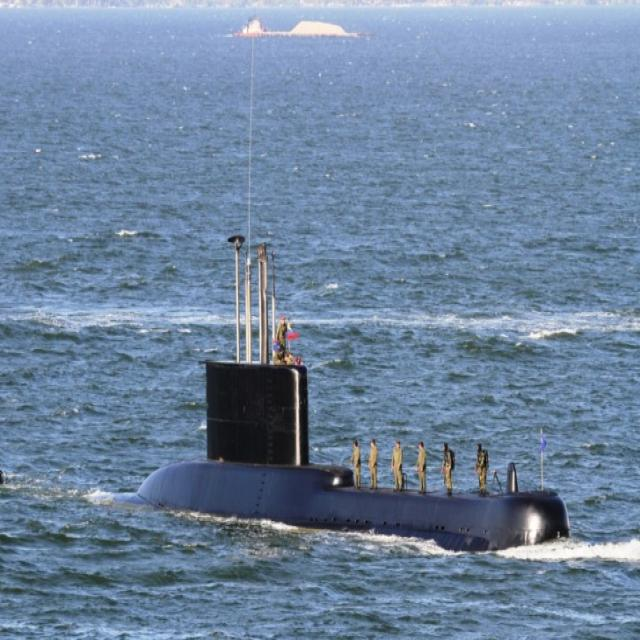submarine: (96, 218, 575, 547)
